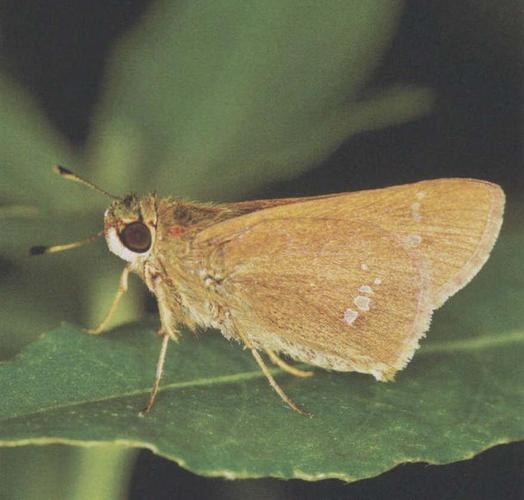Hesperiidae: (28, 164, 508, 420)
